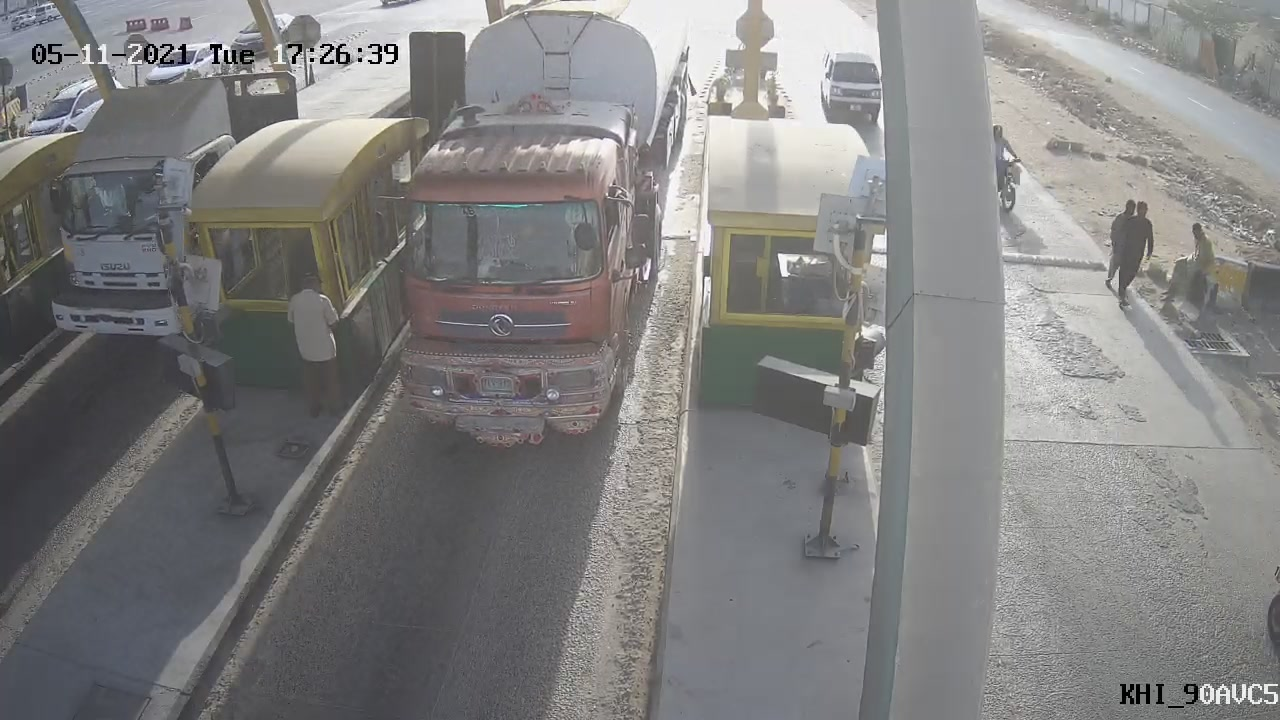F6: (347, 1, 712, 466)
